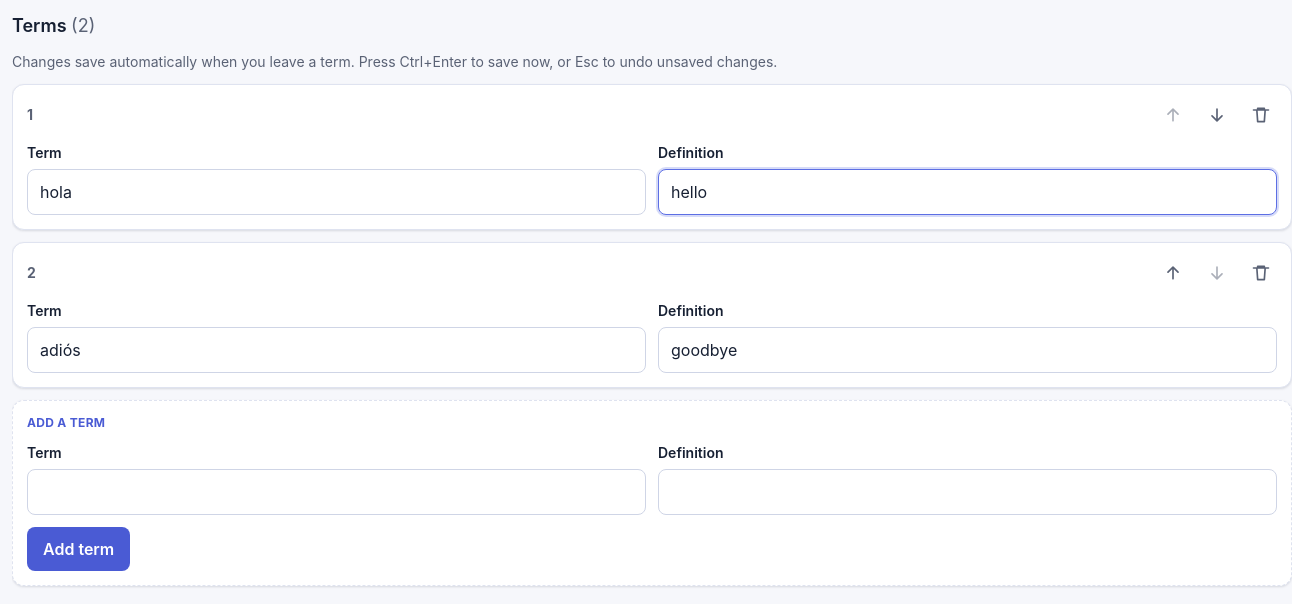
TermEditor › autosaving existing terms › saves immediately with Ctrl+Enter and keeps focus in the field
Expected: the 1st text box showing "hola" is shown, [27,169,646,215]
Replace the text in the text box named "Definition 1" with "hi" at (968, 192), box [658,169,1277,215]
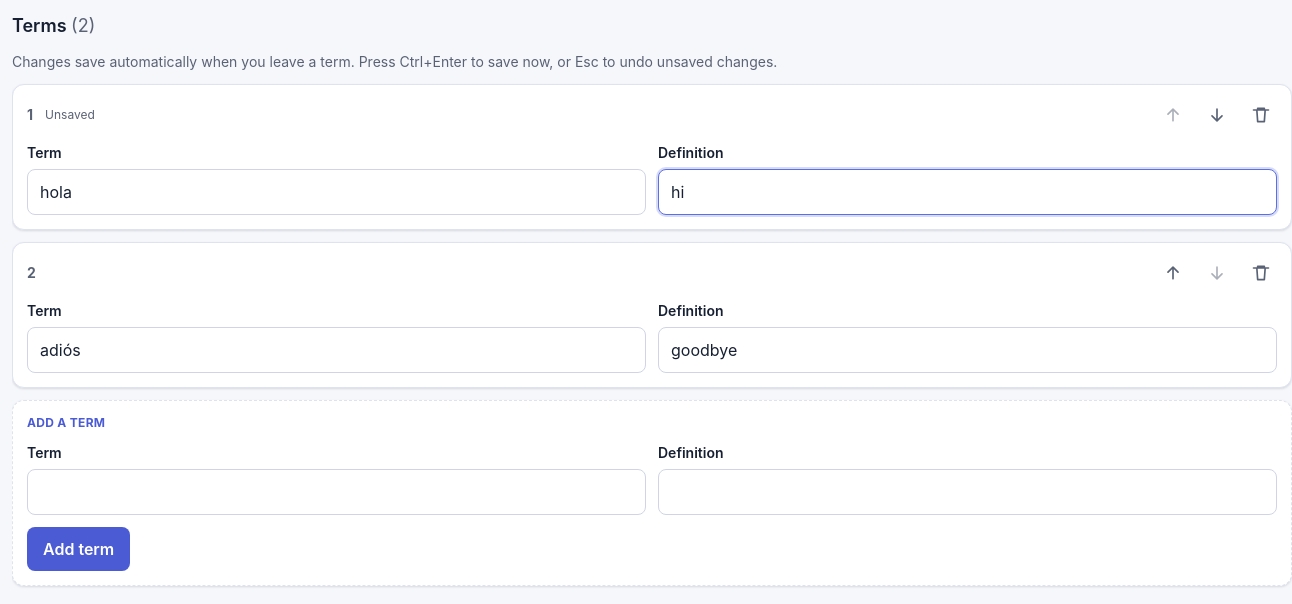
Press Enter in the text box named "Definition 1", box [658,169,1277,215]
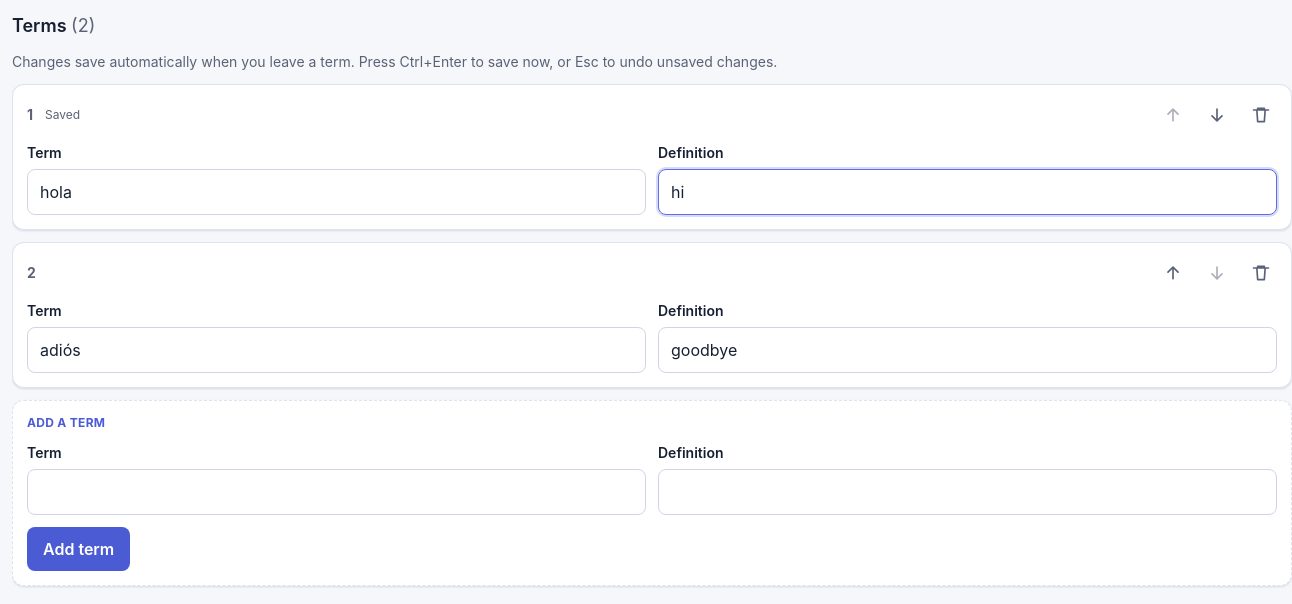
Now the message reads "Saved", box [45,107,80,122]
